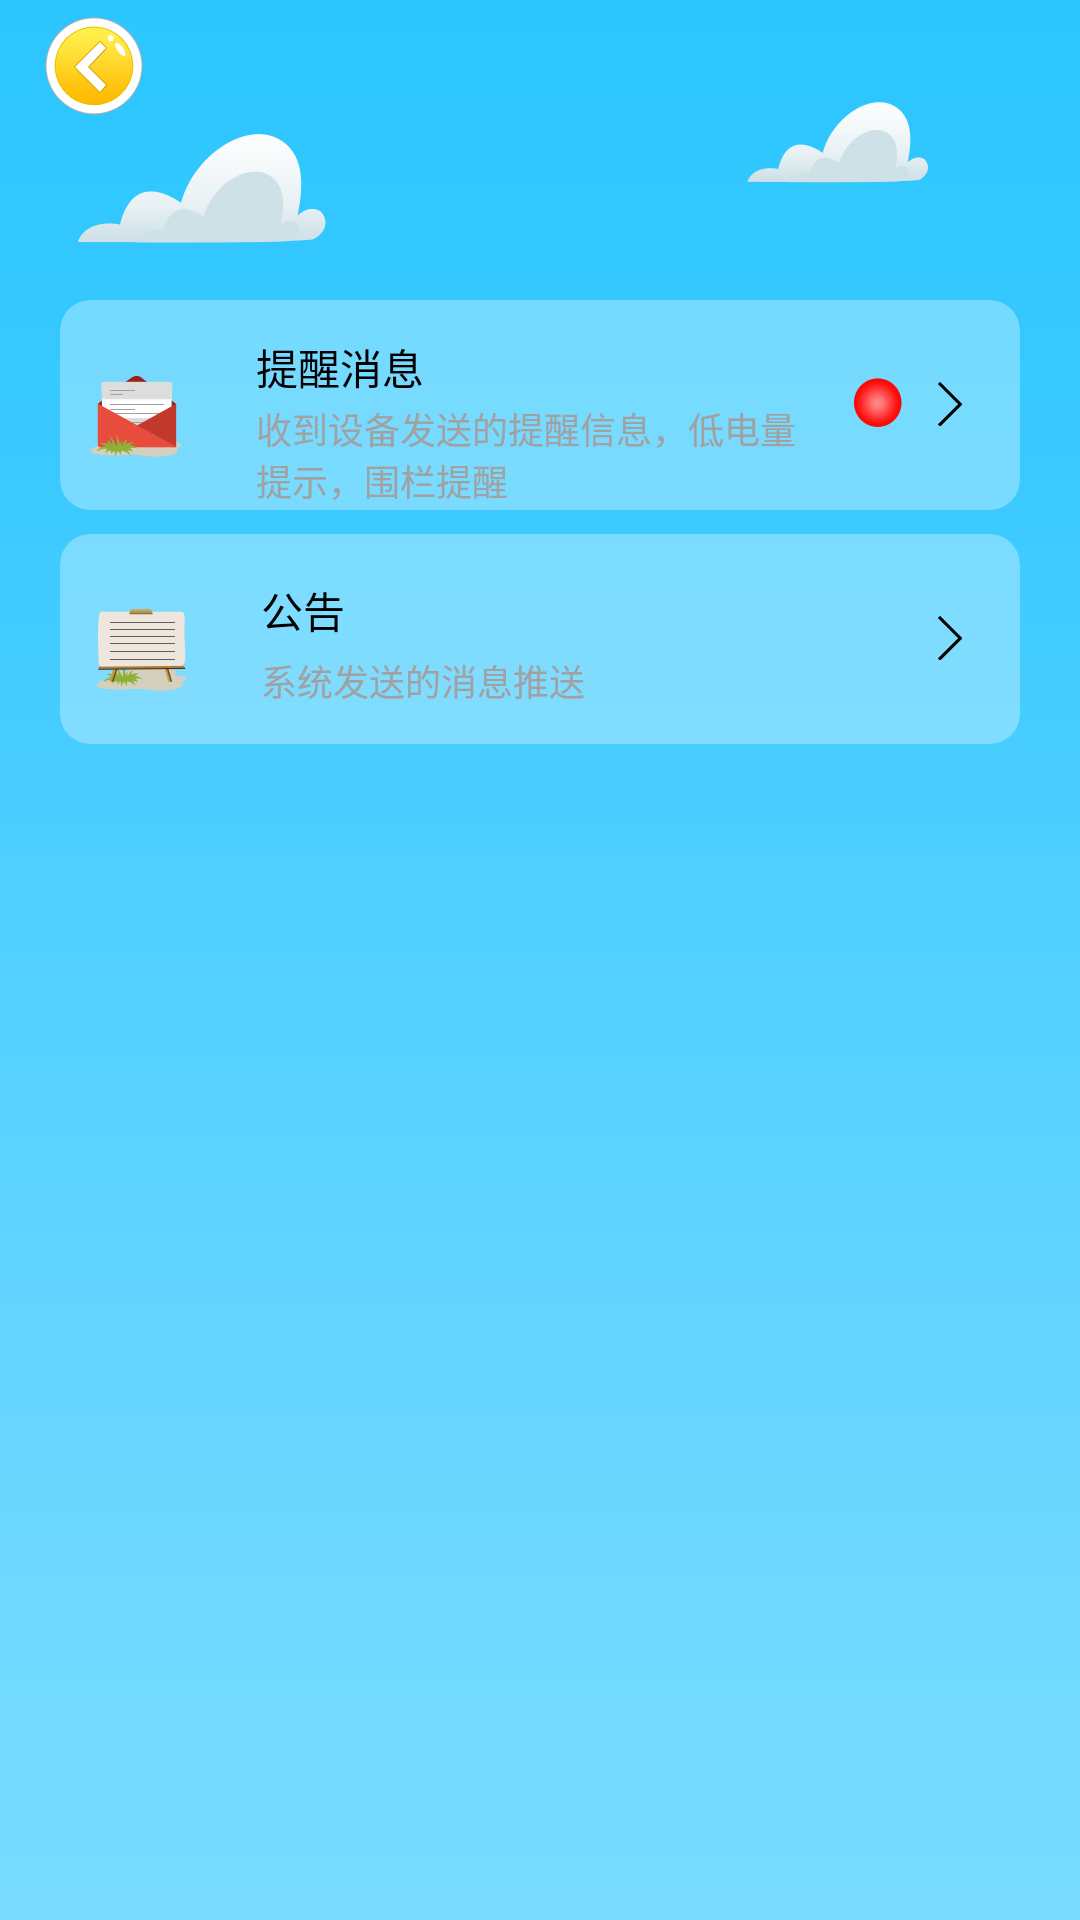

Screen size 1080x1920. Icon name, then its box in pixels as (x1, y1, x2, y2):
back: (45, 17, 143, 115)
message system: (96, 609, 186, 691)
message user: (90, 375, 181, 457)
right: (938, 382, 962, 426), (938, 616, 962, 660)
